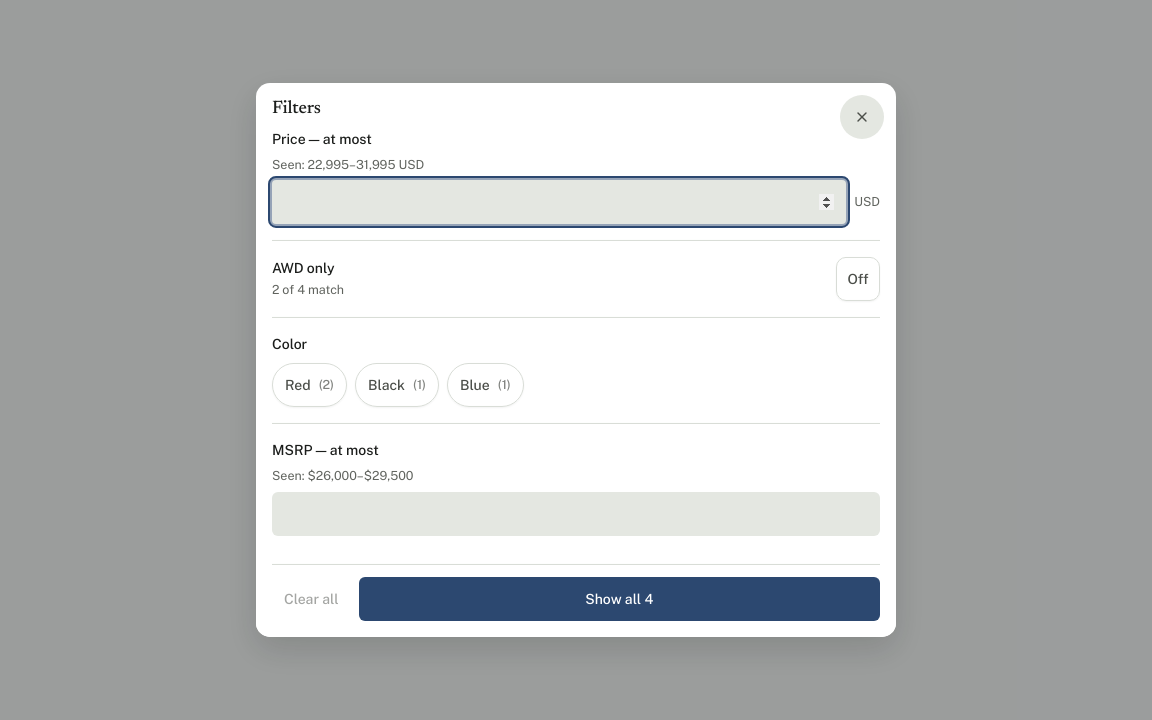
Test: FilterSheet › footer › also drops the mid-keystroke echo when everything is cleared, so no value survives that filters nothing
Type "25000" into the number field with test id "workspace-filter-price".
click(559, 202); type("25000")  # box [272,180,846,224]
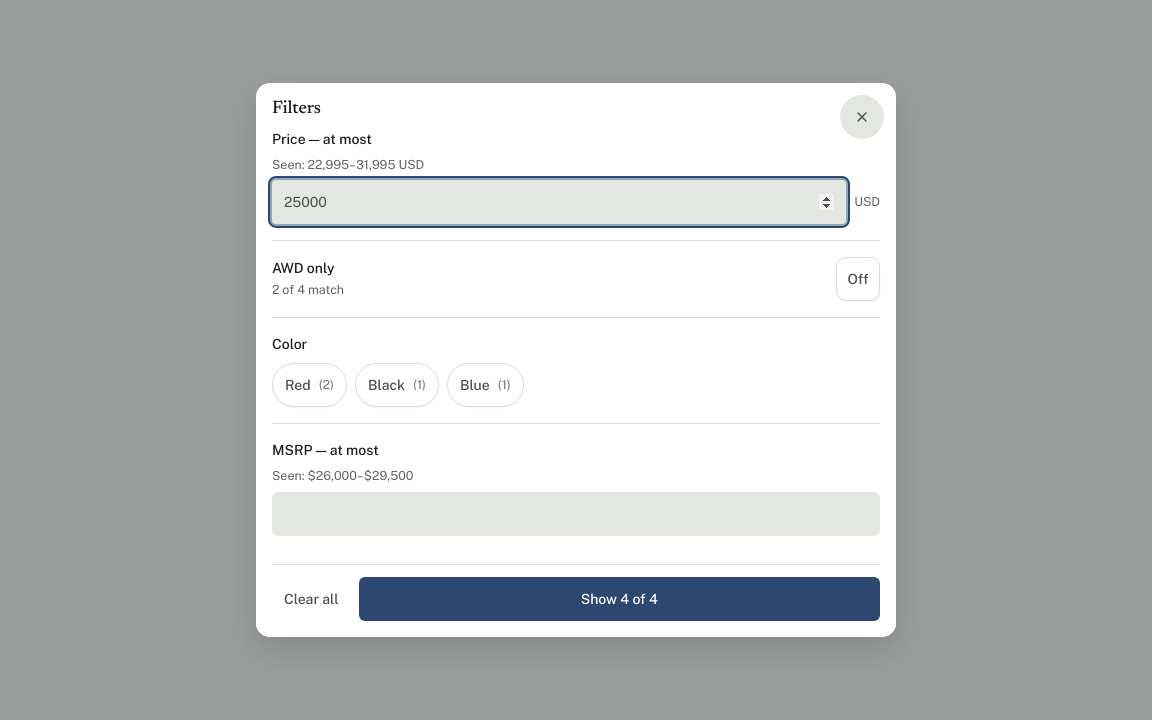
Click the button with test id "workspace-filter-sheet-clear-all".
click(311, 599)  # box [272,577,351,621]
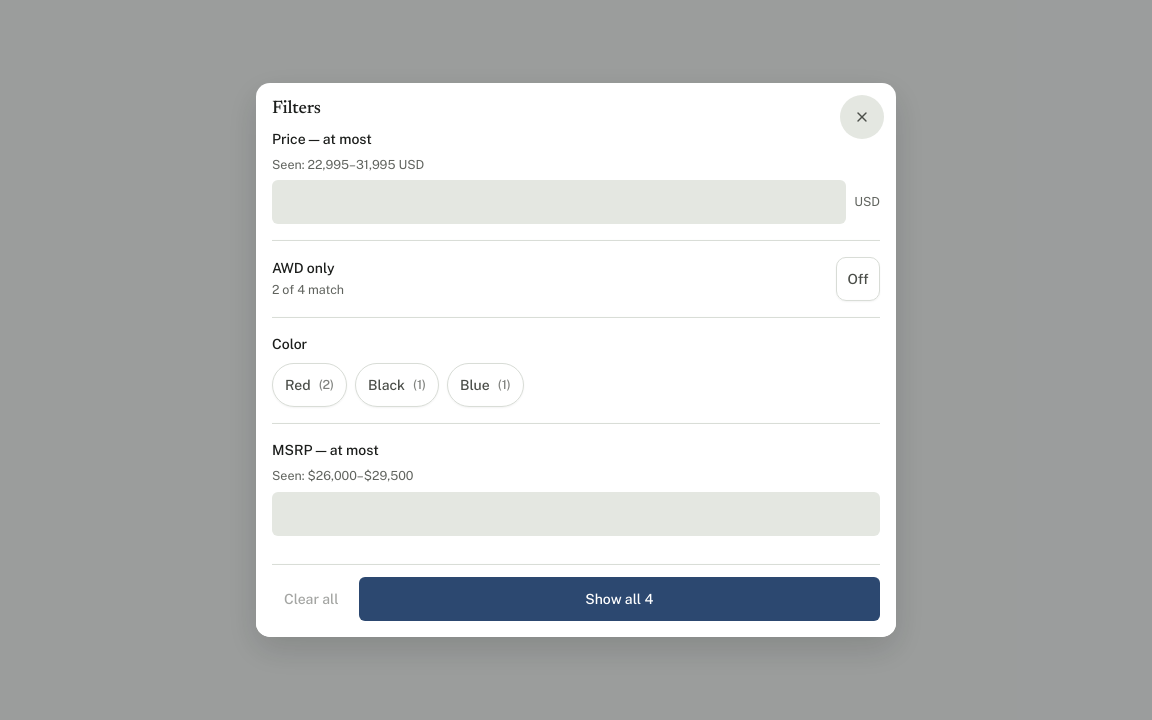
Result: the number field with test id "workspace-filter-price" is not empty at [272,180,846,224]
